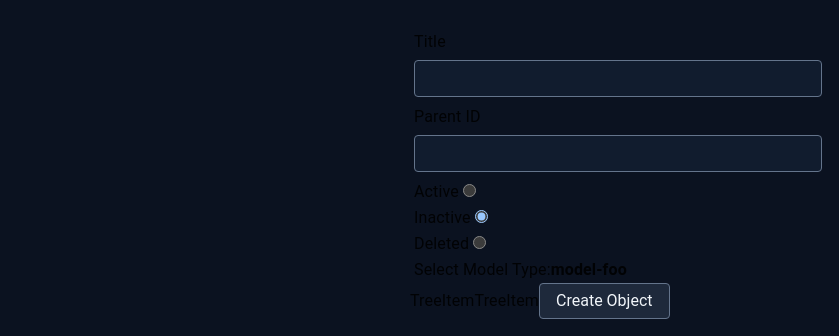
Test case: CreateObject › submits appropriate data in default case
Type "Test Title" into the field labelled "Title" at x=618, y=78, box [414,60,822,97]
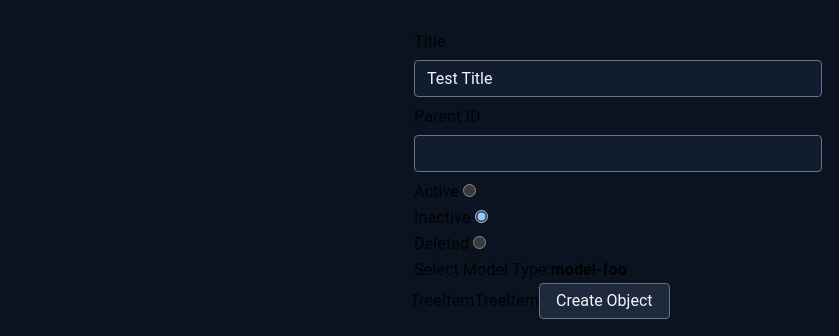
Type "foo:1234" into the field labelled "Parent ID" at x=618, y=154, box [414,135,822,172]
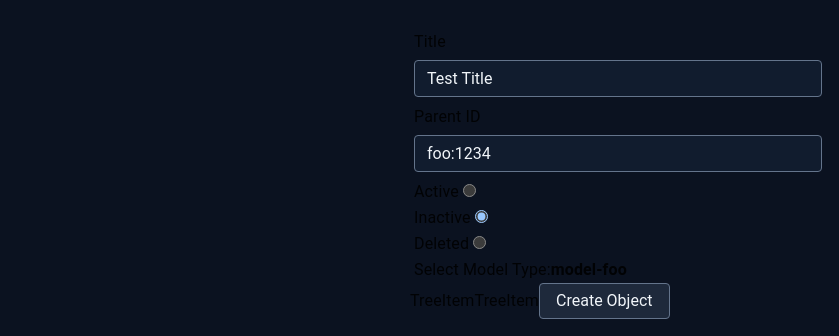
Click the button "Create Object" at x=604, y=301, box [539,283,670,319]
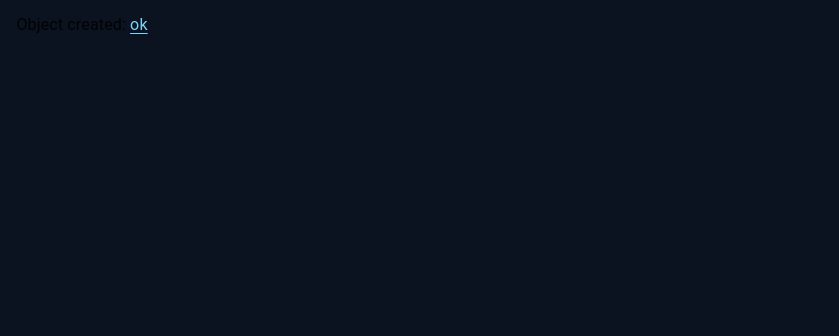
Expected: the text "Object created:" is shown once, [16,15,148,34]
